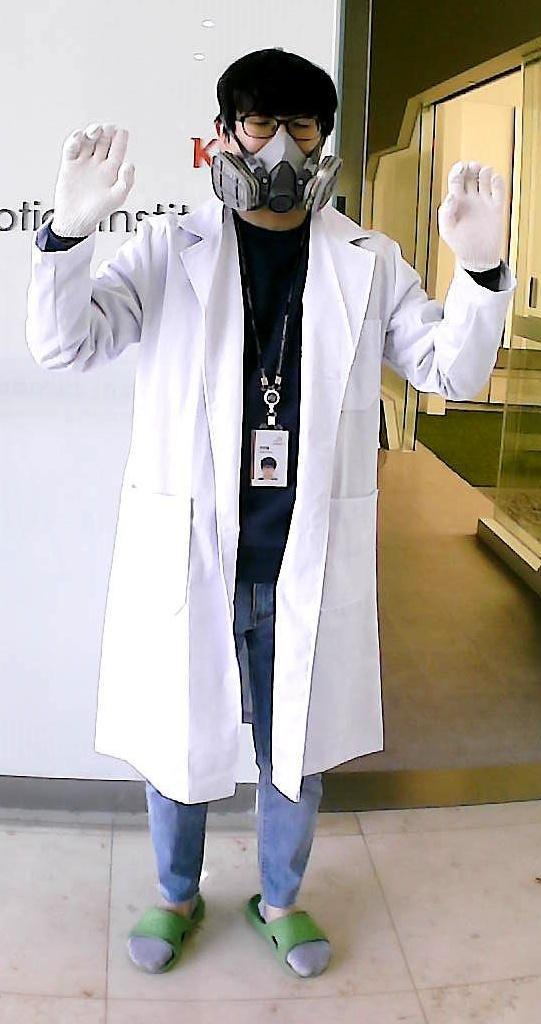lab_coat: (100, 244, 404, 776)
